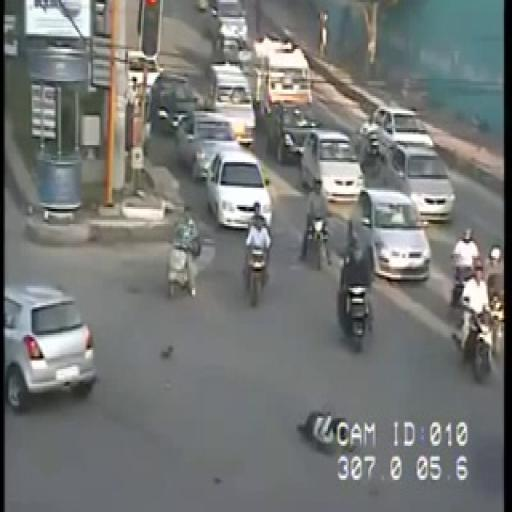Car: (4, 282, 98, 412), (354, 188, 430, 280), (384, 144, 454, 223), (204, 150, 270, 228), (300, 129, 363, 203), (202, 64, 258, 147), (177, 110, 241, 174), (360, 105, 431, 159), (264, 102, 319, 166), (258, 40, 312, 103), (148, 73, 200, 136), (207, 1, 251, 59)
Motor: (452, 300, 494, 381), (336, 271, 373, 349), (452, 237, 481, 307), (166, 237, 196, 299), (244, 244, 270, 307), (303, 214, 331, 270), (489, 251, 506, 323)
